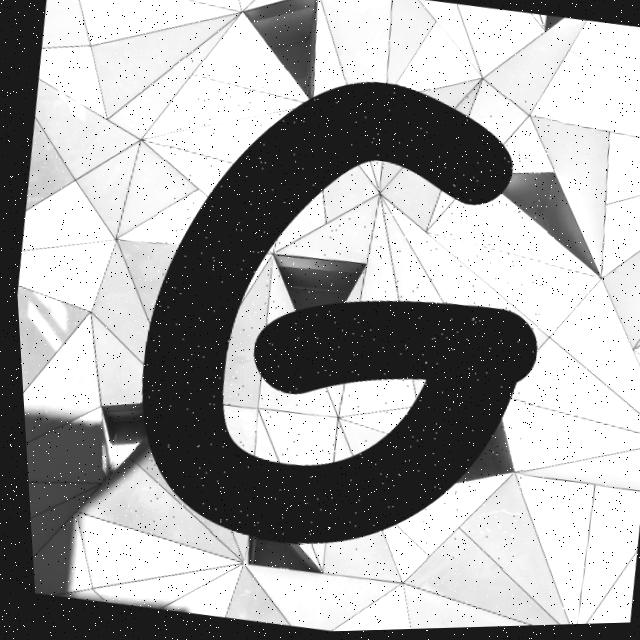G: (138, 86, 532, 545)
